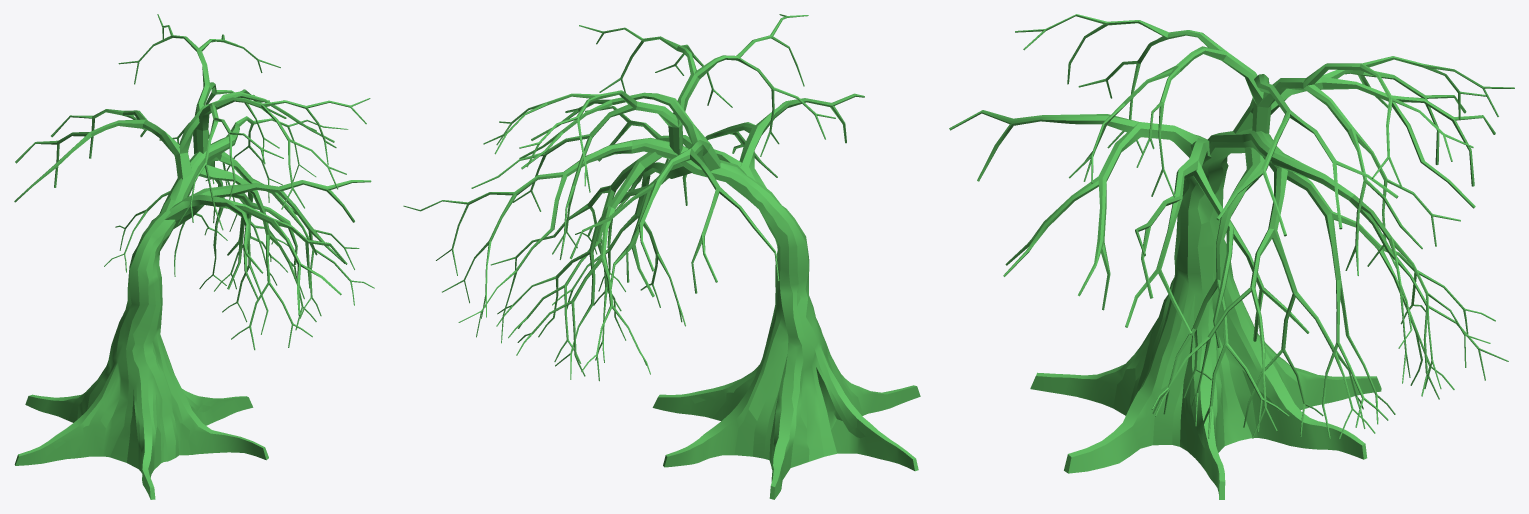
File: jungle_giant_tree_B.fbx
The picture shows the model from 3 angles, left to right: view 1: azimuth 30°, elevation 25°; view 2: azimuth 150°, elevation 25°; view 3: azimuth 270°, elevation 25°; orthographic projection. The views are drawn at different scales.
Visible parts, largest first — view 1: jungle_giant_tree_B_trunk_root, jungle_giant_tree_B_branch_C, jungle_giant_tree_B_branch_H, jungle_giant_tree_B_branch_I, jungle_giant_tree_B_branch_A, jungle_giant_tree_B_branch_B, jungle_giant_tree_B_branch_D; view 2: jungle_giant_tree_B_trunk_root, jungle_giant_tree_B_branch_H, jungle_giant_tree_B_branch_A, jungle_giant_tree_B_branch_I, jungle_giant_tree_B_branch_C, jungle_giant_tree_B_branch_D, jungle_giant_tree_B_branch_B; view 3: jungle_giant_tree_B_trunk_root, jungle_giant_tree_B_branch_H, jungle_giant_tree_B_branch_C, jungle_giant_tree_B_branch_A, jungle_giant_tree_B_branch_I, jungle_giant_tree_B_branch_D, jungle_giant_tree_B_branch_B.
Boxes of the visible parts, x1,y1,x2,y2 form: jungle_giant_tree_B_trunk_root: (14,136,268,499); jungle_giant_tree_B_branch_C: (164,180,371,315); jungle_giant_tree_B_branch_H: (118,14,370,230); jungle_giant_tree_B_branch_I: (14,89,334,202); jungle_giant_tree_B_branch_A: (104,152,374,334); jungle_giant_tree_B_branch_B: (199,165,316,350); jungle_giant_tree_B_branch_D: (205,116,348,231); jungle_giant_tree_B_trunk_root: (631,137,920,499); jungle_giant_tree_B_branch_H: (471,14,835,259); jungle_giant_tree_B_branch_A: (490,152,662,381); jungle_giant_tree_B_branch_I: (519,92,779,293); jungle_giant_tree_B_branch_C: (585,93,864,297); jungle_giant_tree_B_branch_D: (403,140,632,343); jungle_giant_tree_B_branch_B: (552,162,692,326); jungle_giant_tree_B_trunk_root: (1030,128,1381,499); jungle_giant_tree_B_branch_H: (1015,14,1514,275); jungle_giant_tree_B_branch_C: (949,110,1309,347); jungle_giant_tree_B_branch_A: (1151,157,1495,439); jungle_giant_tree_B_branch_I: (1216,69,1495,236); jungle_giant_tree_B_branch_D: (1271,152,1508,399); jungle_giant_tree_B_branch_B: (1155,147,1289,438).
Bounding box in the file's own units: 1143 × 896 × 1033.
